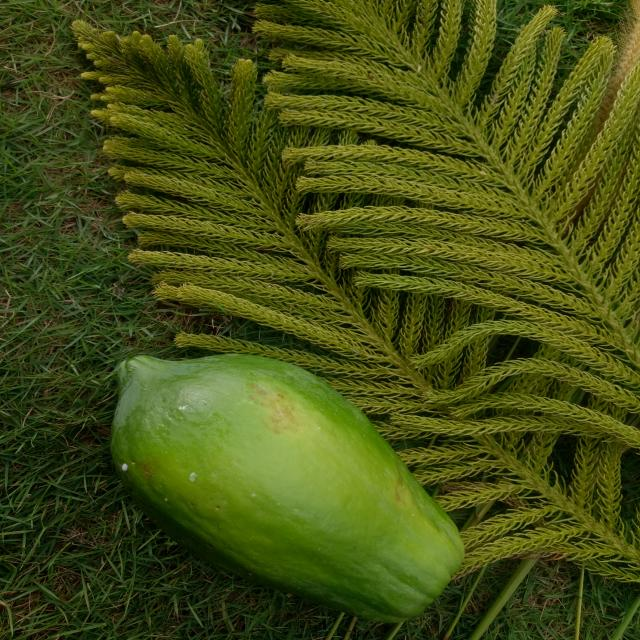Pepaya unrippen: (92, 343, 474, 615)
